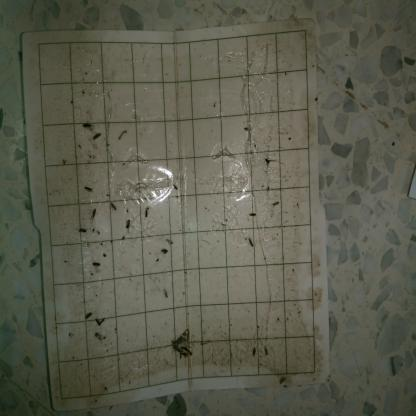prays_oleae: (95, 310, 106, 327), (161, 244, 170, 262), (93, 329, 102, 347), (111, 196, 118, 217), (92, 261, 104, 273), (248, 211, 261, 222), (123, 217, 133, 231), (144, 207, 152, 224), (91, 205, 99, 221), (262, 342, 270, 358), (92, 131, 102, 143), (85, 183, 95, 195), (251, 342, 257, 362), (278, 373, 287, 386), (82, 119, 92, 130), (85, 310, 93, 322), (248, 235, 254, 250), (78, 226, 86, 237), (272, 198, 280, 206)
